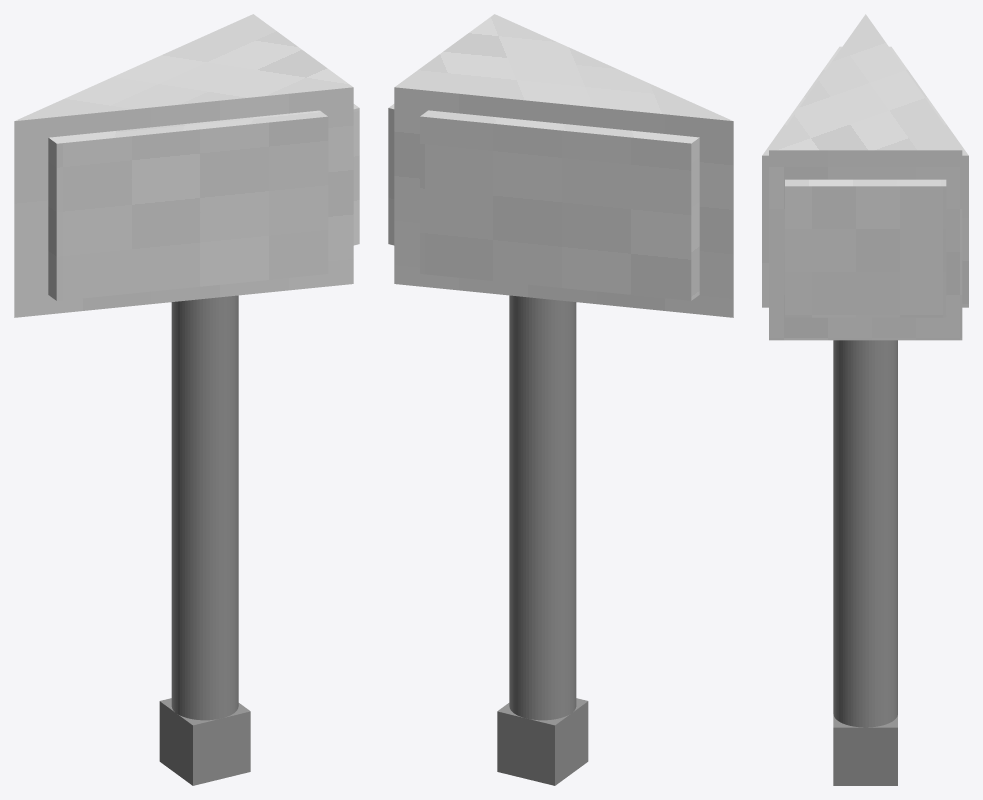
The model's file is itemironsuperaxe.obj.
The picture shows the model from 3 angles, left to right: view 1: azimuth 30°, elevation 25°; view 2: azimuth 150°, elevation 25°; view 3: azimuth 270°, elevation 25°; orthographic projection. The views are drawn at different scales.
Parts seen in each view (by area): view 1: HammerHead_Cube.002, HammerHandle_Cylinder.003, BottomHammer_Cube.003; view 2: HammerHead_Cube.002, HammerHandle_Cylinder.003, BottomHammer_Cube.003; view 3: HammerHead_Cube.002, HammerHandle_Cylinder.003, BottomHammer_Cube.003.
Part boxes in pixels (<box>): HammerHead_Cube.002: <box>14,14,359,317</box>; HammerHandle_Cylinder.003: <box>171,295,238,720</box>; BottomHammer_Cube.003: <box>159,698,250,785</box>; HammerHead_Cube.002: <box>388,14,733,317</box>; HammerHandle_Cylinder.003: <box>509,295,576,720</box>; BottomHammer_Cube.003: <box>497,698,588,785</box>; HammerHead_Cube.002: <box>762,14,968,340</box>; HammerHandle_Cylinder.003: <box>833,340,897,727</box>; BottomHammer_Cube.003: <box>833,714,897,785</box>.
Size of the model in its own units: 0.6562 by 1.43 by 0.4007.
